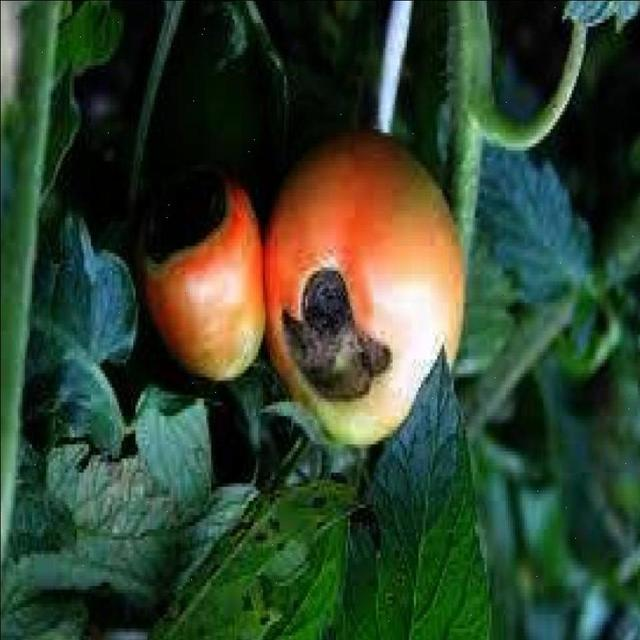Blossom End Rot Fruit: (66, 80, 222, 225)
